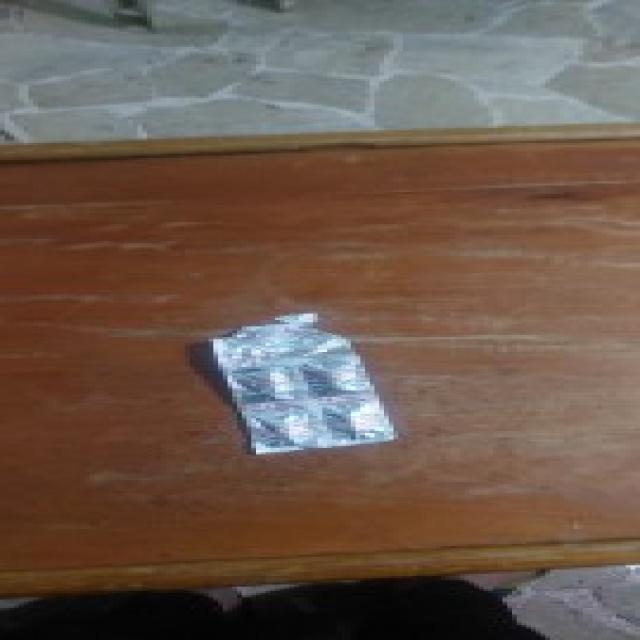Cacat: (205, 309, 388, 457)
Kemasan: (220, 310, 348, 359)
